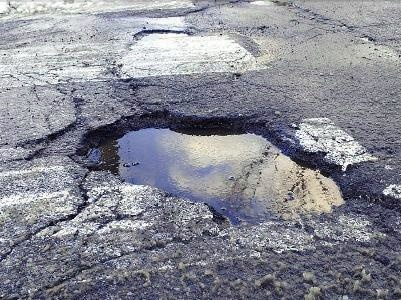pothole: (70, 106, 349, 227), (130, 25, 192, 39)
